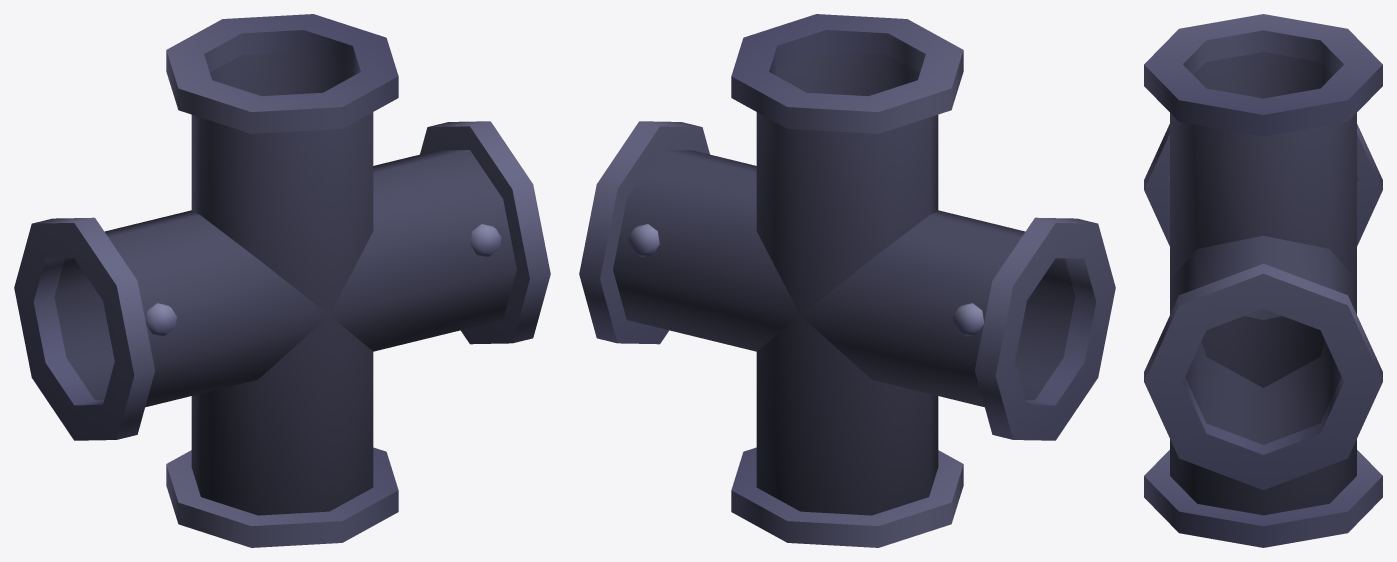
File: pipe-large-cross.glb
3 views of the same model, side by side, from view 1: azimuth 30°, elevation 25°; view 2: azimuth 150°, elevation 25°; view 3: azimuth 270°, elevation 25° (orthographic).
Parts seen in each view (by area): view 1: pipe-large-cross; view 2: pipe-large-cross; view 3: pipe-large-cross.
Boxes of the visible parts, box(x1,y1,x2,y2) form: pipe-large-cross: box(14, 14, 550, 547); pipe-large-cross: box(579, 14, 1115, 547); pipe-large-cross: box(1144, 14, 1382, 547).
Bounding box in the file's own units: 2 × 2 × 1.
